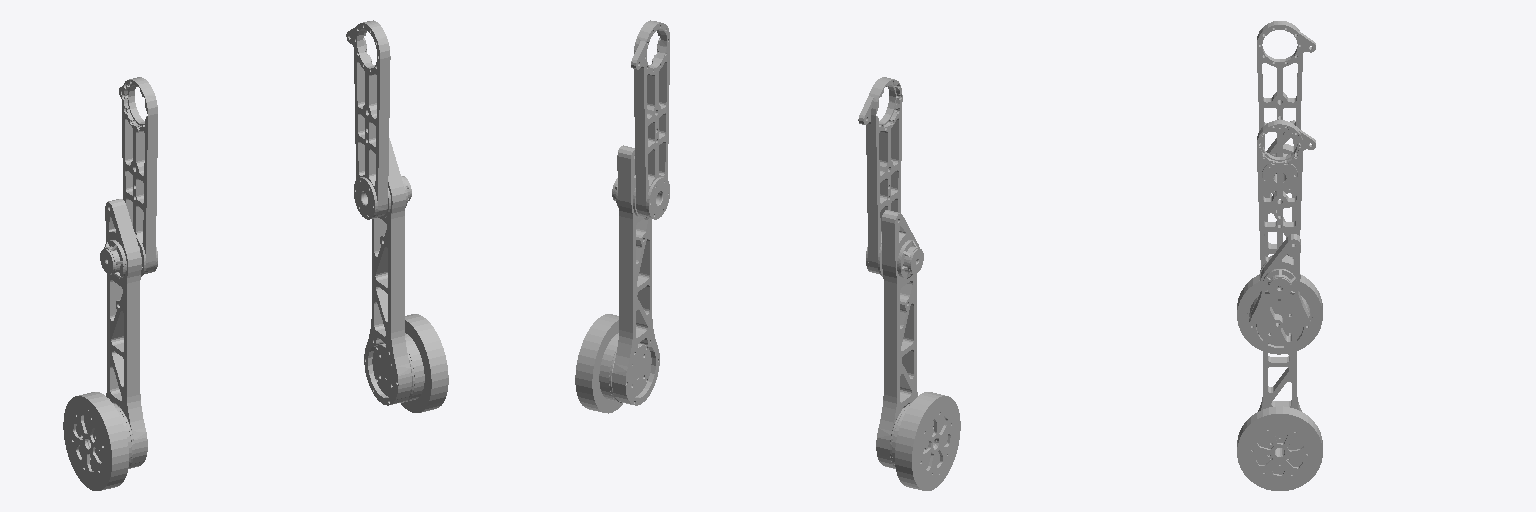
The robot description file, URDF, robot "imcawl":
<?xml version="1.0" encoding="utf-8"?>
<!-- This URDF was automatically created by SolidWorks to URDF Exporter! Originally created by Stephen Brawner (brawner@gmail.com) 
     Commit Version: 1.6.0-4-g7f85cfe  Build Version: 1.6.7995.38578
     For more information, please see http://wiki.ros.org/sw_urdf_exporter -->
<robot
  name="imcawl">
  <link
    name="base_link">
    <inertial>
      <origin
        xyz="-0.00320329590275952 -0.00232153751605896 0.0582726245201776"
        rpy="0 0 0" />
      <mass
        value="9.11531220901422" />
      <inertia
        ixx="0.0274455503544563"
        ixy="-3.8368445769211E-05"
        ixz="-3.9546470233678E-07"
        iyy="0.0138876649959725"
        iyz="1.15247625253083E-05"
        izz="0.0291645123153101" />
    </inertial>
    <visual>
      <origin
        xyz="0 0 0"
        rpy="0 0 0" />
      <geometry>
        <mesh
          filename="../meshes/base_link.STL" />
      </geometry>
      <material
        name="">
        <color
          rgba="0.752941176470588 0.752941176470588 0.752941176470588 1" />
      </material>
    </visual>
    <collision>
      <origin
        xyz="0 0 0"
        rpy="0 0 0" />
      <geometry>
        <mesh
          filename="../meshes/base_link.STL" />
      </geometry>
    </collision>
  </link>
  <link
    name="lf0_link">
    <inertial>
      <origin
        xyz="0.00270651110954748 0.000637033380984982 -0.145506188241601"
        rpy="0 0 0" />
      <mass
        value="0.351283706943026" />
      <inertia
        ixx="0.00145377762173734"
        ixy="7.38647050342215E-07"
        ixz="4.92627488200562E-06"
        iyy="0.00136091715210196"
        iyz="2.46862332961779E-05"
        izz="0.000144677169106704" />
    </inertial>
    <visual>
      <origin
        xyz="0 0 0"
        rpy="0 0 0" />
      <geometry>
        <mesh
          filename="../meshes/lf0_link.STL" />
      </geometry>
      <material
        name="">
        <color
          rgba="0.752941176470588 0.752941176470588 0.752941176470588 1" />
      </material>
    </visual>
    <collision>
      <origin
        xyz="0 0 0"
        rpy="0 0 0" />
      <geometry>
        <mesh
          filename="../meshes/lf0_link.STL" />
      </geometry>
    </collision>
  </link>
  <joint
    name="lf0_joint"
    type="revolute">
    <origin
      xyz="-0.17865 0 0.09"
      rpy="0 0 0" />
    <parent
      link="base_link" />
    <child
      link="lf0_link" />
    <axis
      xyz="-1 0 0" />
    <limit lower="-0.8" upper="1.9" effort="30" velocity="1000" />
  </joint>
  <link
    name="lf1_link">
    <inertial>
      <origin
        xyz="-0.000850510164682433 0.00107666092275464 -0.166656941936174"
        rpy="0 0 0" />
      <mass
        value="0.624467028060214" />
      <inertia
        ixx="0.00457903877279553"
        ixy="1.73606207520501E-08"
        ixz="-2.80029011009679E-08"
        iyy="0.00432606076800462"
        iyz="0.000103495585582633"
        izz="0.000325813470593527" />
    </inertial>
    <visual>
      <origin
        xyz="0 0 0"
        rpy="0 0 0" />
      <geometry>
        <mesh
          filename="../meshes/lf1_link.STL" />
      </geometry>
      <material
        name="">
        <color
          rgba="0.752941176470588 0.752941176470588 0.752941176470588 1" />
      </material>
    </visual>
    <collision>
      <origin
        xyz="0 0 0"
        rpy="0 0 0" />
      <geometry>
        <mesh
          filename="../meshes/lf1_link.STL" />
      </geometry>
    </collision>
  </link>
  <joint
    name="lf1_joint"
    type="revolute">
    <origin
      xyz="-0.026 0 -0.21"
      rpy="0 0 0" />
    <parent
      link="lf0_link" />
    <child
      link="lf1_link" />
    <axis
      xyz="-1 0 0" />
    <limit lower="-2.4" upper="2.4" effort="30" velocity="1000" />
  </joint>
  <link
    name="l_wheel_link">
    <inertial>
      <origin
        xyz="0.0108250604590236 -2.77555756156289E-17 0"
        rpy="0 0 0" />
      <mass
        value="0.257421598889876" />
      <inertia
        ixx="0.000659923797581141"
        ixy="6.33353652741409E-20"
        ixz="-4.07878990706633E-20"
        iyy="0.000343928011379725"
        iyz="2.71050543121376E-20"
        izz="0.000343928011379725" />
    </inertial>
    <visual>
      <origin
        xyz="0 0 0"
        rpy="0 0 0" />
      <geometry>
        <mesh
          filename="../meshes/l_wheel_link.STL" />
      </geometry>
      <material
        name="">
        <color
          rgba="0.752941176470588 0.752941176470588 0.752941176470588 1" />
      </material>
    </visual>
    <collision>
      <origin
        xyz="0 0 0"
        rpy="0 0 0" />
      <geometry>
        <mesh
          filename="../meshes/l_wheel_link.STL" />
      </geometry>
    </collision>
  </link>
  <joint
    name="l_wheel_joint"
    type="revolute">
    <origin
      xyz="-0.0432 0 -0.25"
      rpy="0 0 0" />
    <parent
      link="lf1_link" />
    <child
      link="l_wheel_link" />
    <axis
      xyz="-1 0 0" />
    <dynamics damping="0" friction="0"/>
    <limit
      effort="5"
      velocity="1000" />
  </joint>
  <link
    name="rf0_link">
    <inertial>
      <origin
        xyz="-0.00270651044534218 0.000634856613628561 -0.145506481490274"
        rpy="0 0 0" />
      <mass
        value="0.351283712720675" />
      <inertia
        ixx="0.00145377762218643"
        ixy="-7.3699551841945E-07"
        ixz="-4.92605378444753E-06"
        iyy="0.00136091713941202"
        iyz="2.46861862696675E-05"
        izz="0.000144677182302666" />
    </inertial>
    <visual>
      <origin
        xyz="0 0 0"
        rpy="0 0 0" />
      <geometry>
        <mesh
          filename="../meshes/rf0_link.STL" />
      </geometry>
      <material
        name="">
        <color
          rgba="0.752941176470588 0.752941176470588 0.752941176470588 1" />
      </material>
    </visual>
    <collision>
      <origin
        xyz="0 0 0"
        rpy="0 0 0" />
      <geometry>
        <mesh
          filename="../meshes/rf0_link.STL" />
      </geometry>
    </collision>
  </link>
  <joint
    name="rf0_joint"
    type="revolute">
    <origin
      xyz="0.17865 0 0.09"
      rpy="0 0 0" />
    <parent
      link="base_link" />
    <child
      link="rf0_link" />
    <axis
      xyz="1 0 0" />
    <limit lower="-1.9" upper="0.8" effort="30" velocity="1000" />
  </joint>
  <link
    name="rf1_link">
    <inertial>
      <origin
        xyz="0.000850510164682683 0.00108704174866658 -0.166656941936173"
        rpy="0 0 0" />
      <mass
        value="0.624467028060215" />
      <inertia
        ixx="0.00457903877279553"
        ixy="1.73606207583112E-08"
        ixz="2.80029010963341E-08"
        iyy="0.00432606076800462"
        iyz="0.000103482290449355"
        izz="0.000325813470593528" />
    </inertial>
    <visual>
      <origin
        xyz="0 0 0"
        rpy="0 0 0" />
      <geometry>
        <mesh
          filename="../meshes/rf1_link.STL" />
      </geometry>
      <material
        name="">
        <color
          rgba="0.752941176470588 0.752941176470588 0.752941176470588 1" />
      </material>
    </visual>
    <collision>
      <origin
        xyz="0 0 0"
        rpy="0 0 0" />
      <geometry>
        <mesh
          filename="../meshes/rf1_link.STL" />
      </geometry>
    </collision>
  </link>
  <joint
    name="rf1_joint"
    type="revolute">
    <origin
      xyz="0.026 0 -0.21"
      rpy="0 0 0" />
    <parent
      link="rf0_link" />
    <child
      link="rf1_link" />
    <axis
      xyz="1 0 0" />
    <limit
      lower="-2.4"
      upper="2.4"
      effort="30"
      velocity="1000" />
  </joint>
  <link
    name="r_wheel_link">
    <inertial>
      <origin
        xyz="-0.0108250604590236 0 0"
        rpy="0 0 0" />
      <mass
        value="0.257421598889876" />
      <inertia
        ixx="0.000659923797581141"
        ixy="5.67317934444625E-20"
        ixz="-3.05793365226581E-20"
        iyy="0.000343928011379725"
        iyz="2.71050543121376E-20"
        izz="0.000343928011379725" />
    </inertial>
    <visual>
      <origin
        xyz="0 0 0"
        rpy="0 0 0" />
      <geometry>
        <mesh
          filename="../meshes/r_wheel_link.STL" />
      </geometry>
      <material
        name="">
        <color
          rgba="0.752941176470588 0.752941176470588 0.752941176470588 1" />
      </material>
    </visual>
    <collision>
      <origin
        xyz="0 0 0"
        rpy="0 0 0" />
      <geometry>
        <mesh
          filename="../meshes/r_wheel_link.STL" />
      </geometry>
    </collision>
  </link>
  <joint
    name="r_wheel_joint"
    type="revolute">
    <origin
      xyz="0.0432 0 -0.25"
      rpy="0 0 0" />
    <parent
      link="rf1_link" />
    <child
      link="r_wheel_link" />
    <axis
      xyz="1 0 0" />
    <dynamics damping="0" friction="0"/>
    <limit
      effort="5"
      velocity="1000" />
  </joint>
</robot>

--- Render facts (derived) ---
3 views of the same robot in one strip: view 1: azimuth 30°, elevation 25°; view 2: azimuth 150°, elevation 25°; view 3: azimuth 270°, elevation 25° (orthographic).
Model imcawl with 7 links and 6 joints (6 revolute), rooted at base_link, posed every joint at zero.
Links seen in each view (by area): view 1: rf1_link, lf1_link, rf0_link, lf0_link, l_wheel_link, r_wheel_link; view 2: rf1_link, lf1_link, rf0_link, lf0_link, l_wheel_link, r_wheel_link; view 3: r_wheel_link, rf1_link, rf0_link, lf0_link, lf1_link, l_wheel_link.
Link boxes in pixels (x1=…): rf1_link: x1=364, y1=138, x2=424, y2=405; lf1_link: x1=76, y1=199, x2=147, y2=470; rf0_link: x1=346, y1=20, x2=411, y2=219; lf0_link: x1=100, y1=77, x2=157, y2=278; l_wheel_link: x1=63, y1=392, x2=128, y2=490; r_wheel_link: x1=401, y1=314, x2=448, y2=412; rf1_link: x1=599, y1=145, x2=659, y2=405; lf1_link: x1=876, y1=210, x2=947, y2=468; rf0_link: x1=612, y1=20, x2=669, y2=219; lf0_link: x1=858, y1=77, x2=923, y2=278; l_wheel_link: x1=895, y1=392, x2=960, y2=490; r_wheel_link: x1=575, y1=314, x2=622, y2=413; r_wheel_link: x1=1237, y1=406, x2=1322, y2=490; rf1_link: x1=1252, y1=234, x2=1307, y2=474; rf0_link: x1=1257, y1=120, x2=1315, y2=300; lf0_link: x1=1257, y1=21, x2=1315, y2=193; lf1_link: x1=1249, y1=120, x2=1310, y2=353; l_wheel_link: x1=1237, y1=274, x2=1322, y2=354.
Bounding box of the posed robot: 0.4957 × 0.125 × 0.5565 m (x, y, z).
Meshes: 7 distinct files referenced, 6 mesh visuals loaded (6 binary STL); not drawn: 1 (reference not matched to a file when rendering).
